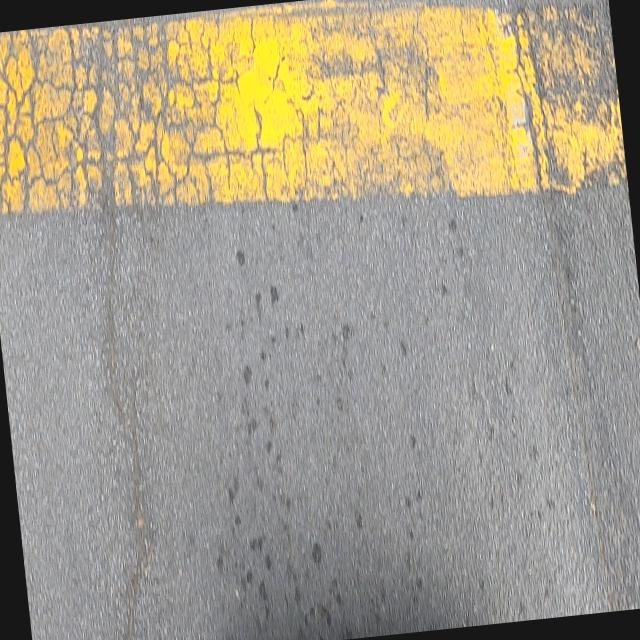Retak-Buaya: (0, 12, 350, 215)
